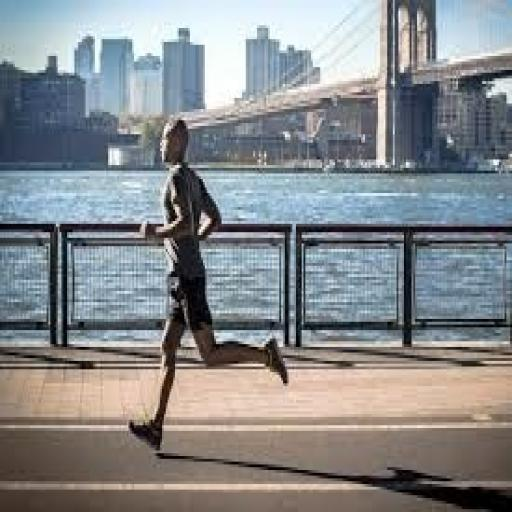running: (127, 112, 292, 456)
